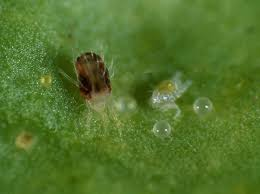Mites: (53, 43, 117, 113)
